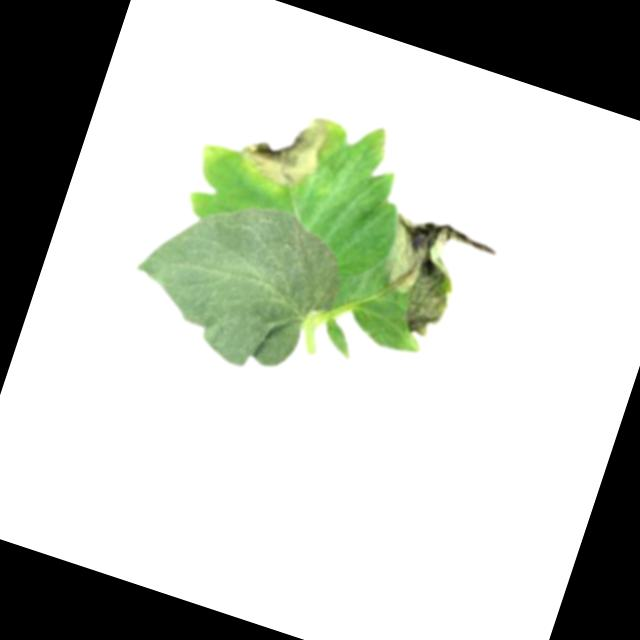Late_blight: (362, 206, 502, 355), (233, 96, 339, 199)
healthy: (115, 171, 360, 391)
